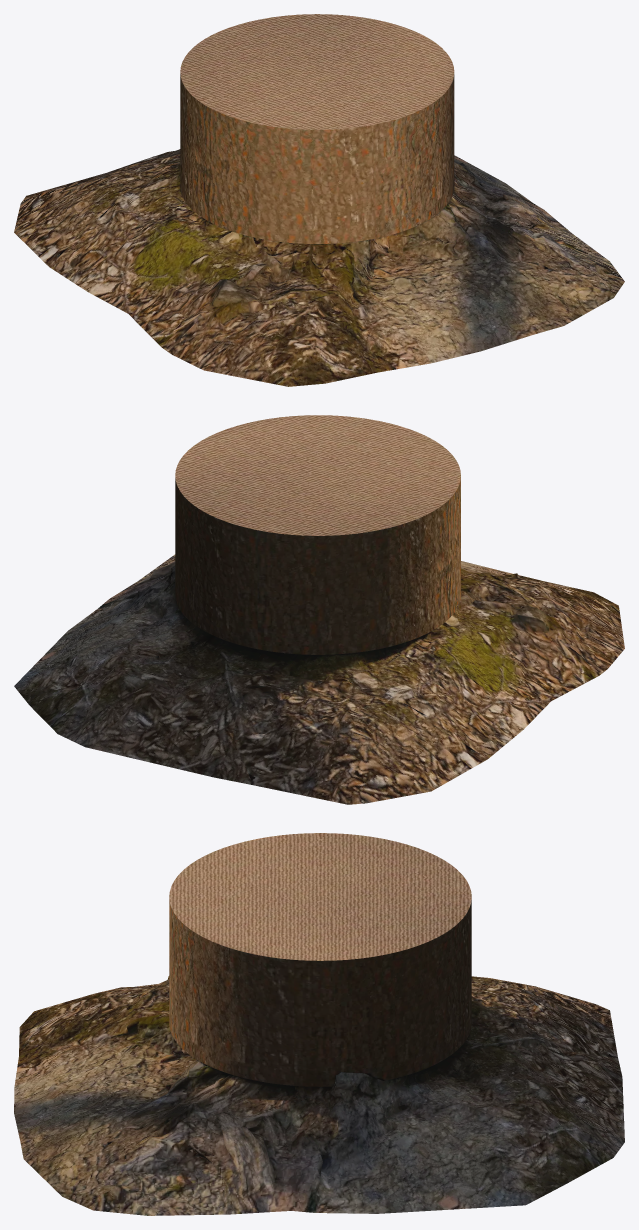
Rendered from table.glb.
3 views of the same model, one above another, from view 1: azimuth 30°, elevation 25°; view 2: azimuth 150°, elevation 25°; view 3: azimuth 270°, elevation 25° (orthographic). The views are drawn at different scales.
Bounding box in the file's own units: 23.45 × 9.61 × 26.15.
Materials: 1 (1 with a texture image).
